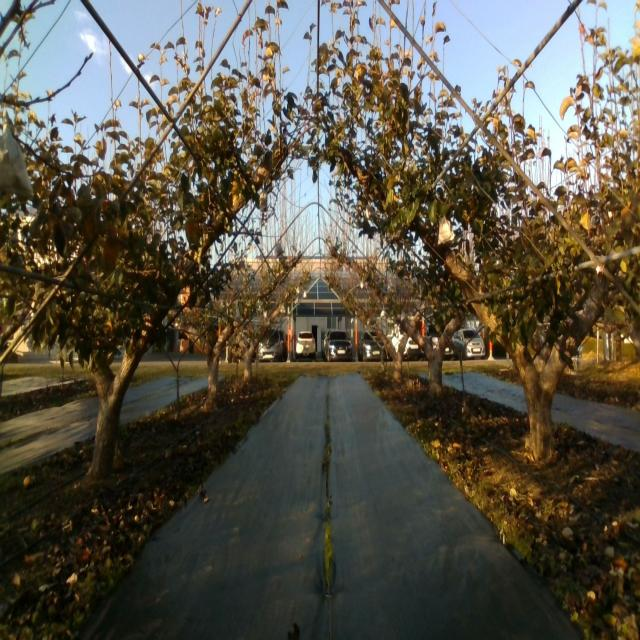pearbags: (0, 123, 34, 207), (437, 214, 455, 246)
